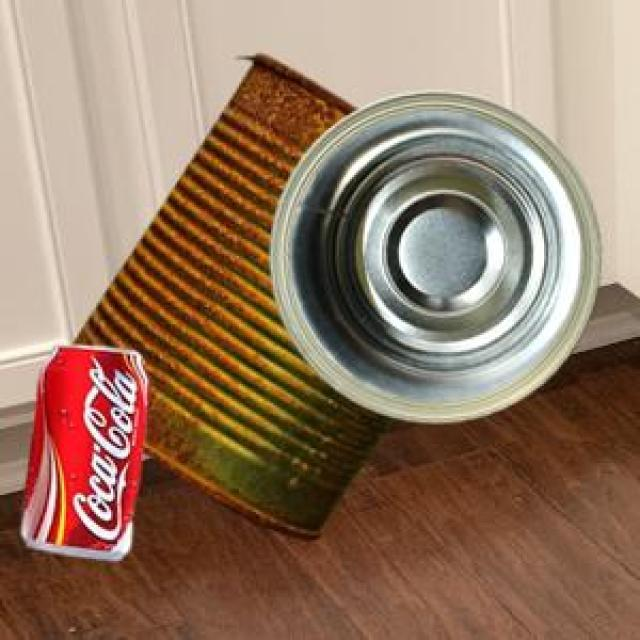Can: (69, 52, 389, 537), (268, 89, 596, 419), (18, 342, 146, 558)
